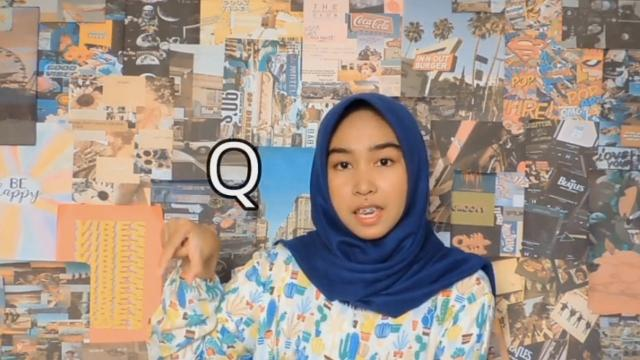Q: (156, 214, 222, 284)
